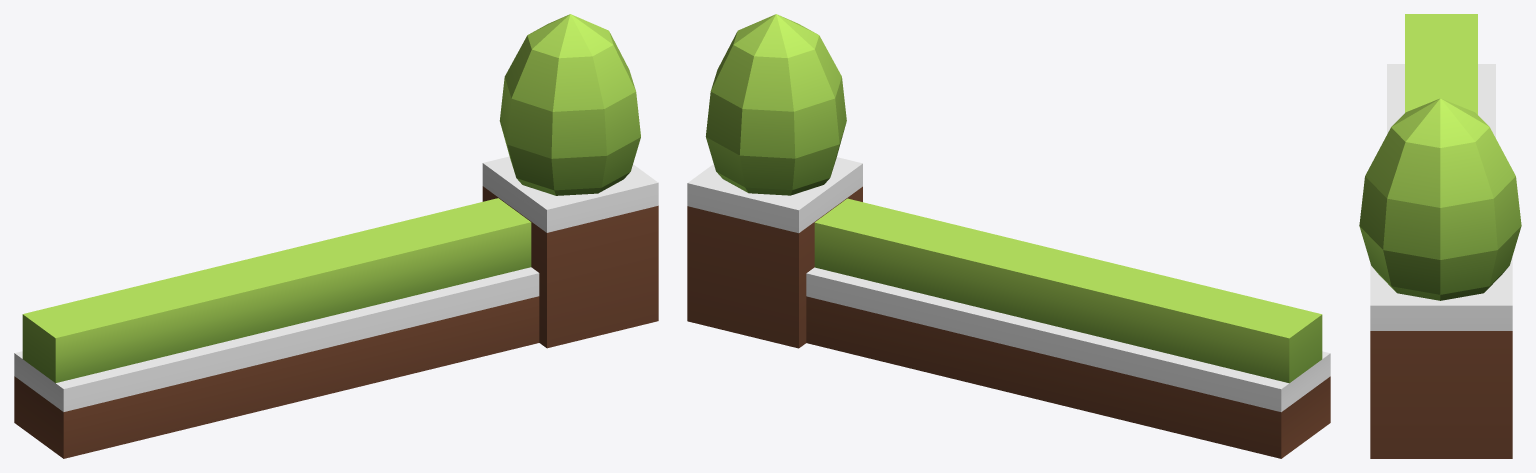
File: plants 3.fbx
3 views of the same model, side by side, from view 1: azimuth 30°, elevation 25°; view 2: azimuth 150°, elevation 25°; view 3: azimuth 270°, elevation 25° (orthographic). The views are drawn at different scales.
Visible parts, largest first — view 1: plants_3; view 2: plants_3; view 3: plants_3.
Part boxes in pixels (left/top/right/bottom): plants_3: left=14, top=14, right=658, bottom=458; plants_3: left=687, top=14, right=1330, bottom=458; plants_3: left=1359, top=14, right=1521, bottom=458.
Size of the model in its own units: 329 by 158 by 70.2.
1 material, 1 textured.
